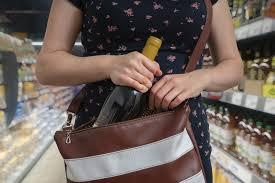shoplifting: (22, 29, 259, 183)
